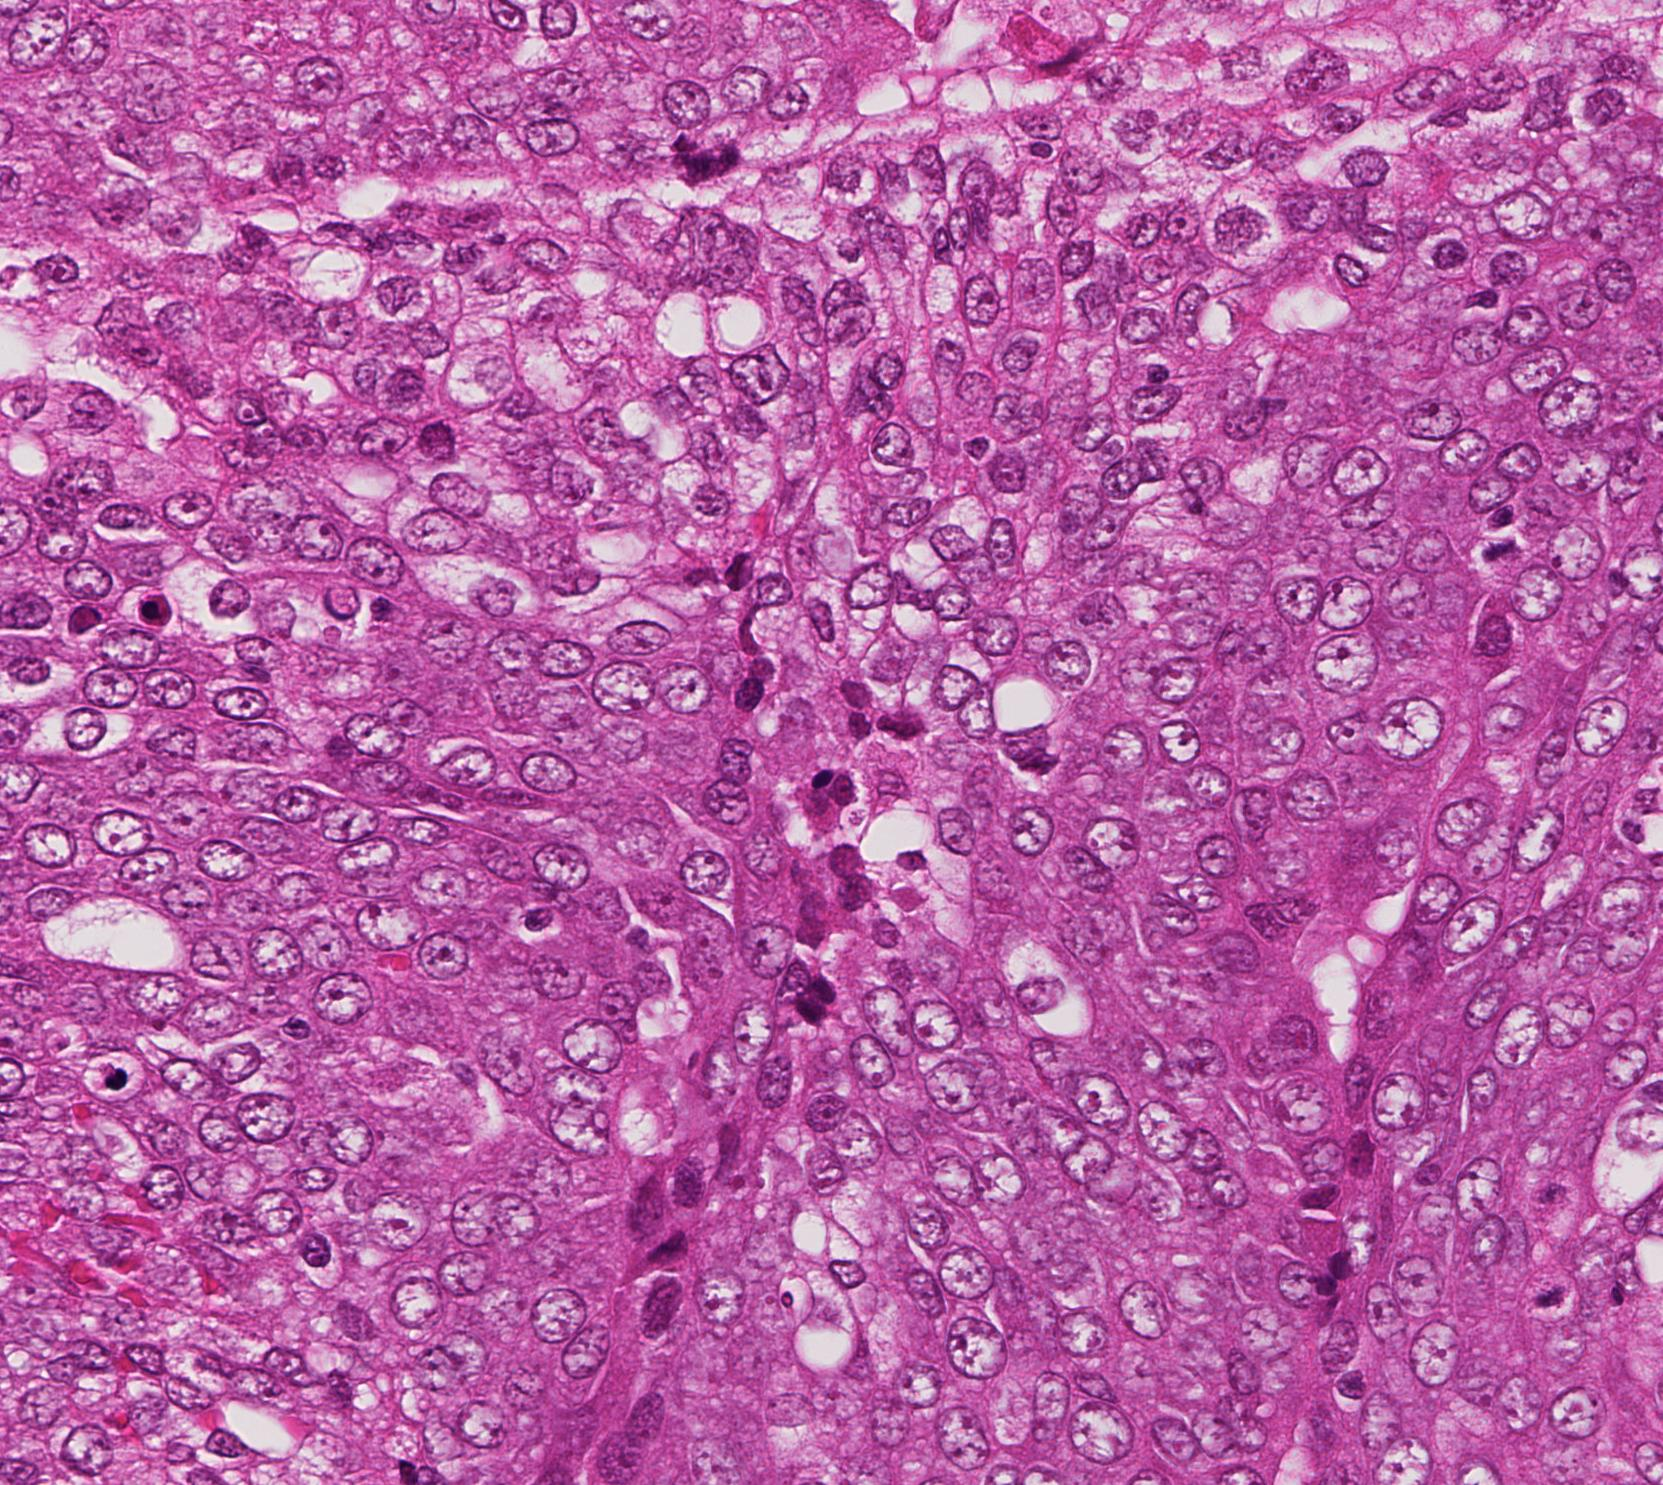mitosis: (1474, 520, 1534, 581), (1518, 1261, 1578, 1322)
